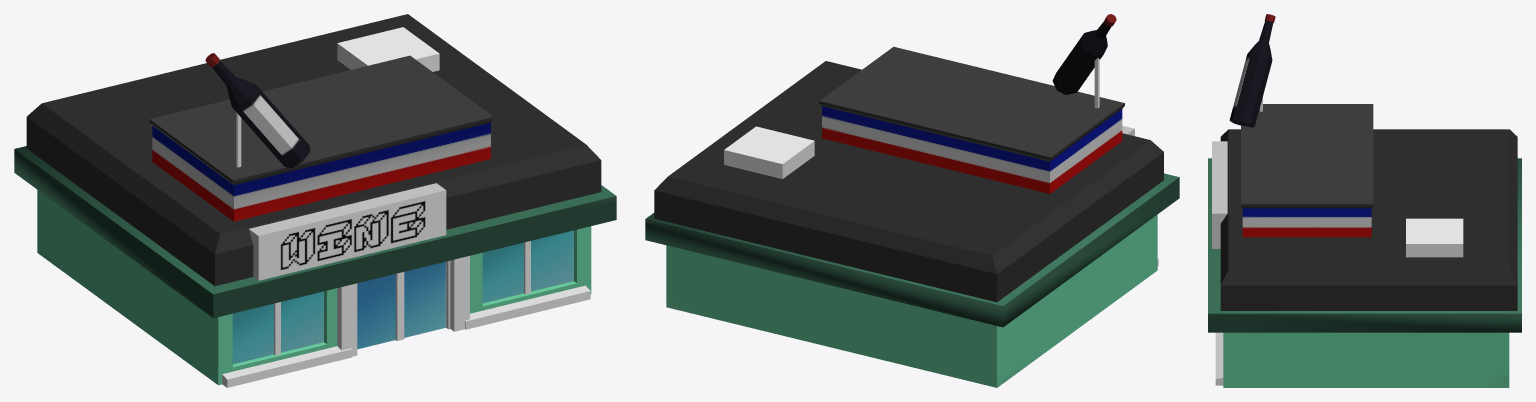
File: Wine House French.fbx
3 renders of one model, left to right at view 1: azimuth 30°, elevation 25°; view 2: azimuth 150°, elevation 25°; view 3: azimuth 270°, elevation 25°, orthographic. The views are drawn at different scales.
Visible parts, largest first — view 1: Wine House French; view 2: Wine House French; view 3: Wine House French.
Boxes of the visible parts, x1,y1,x2,y2 form: Wine House French: (14,14,616,387); Wine House French: (645,14,1179,387); Wine House French: (1208,14,1521,387).
Bounding box in the file's own units: 4.32 × 3.11 × 3.69.
